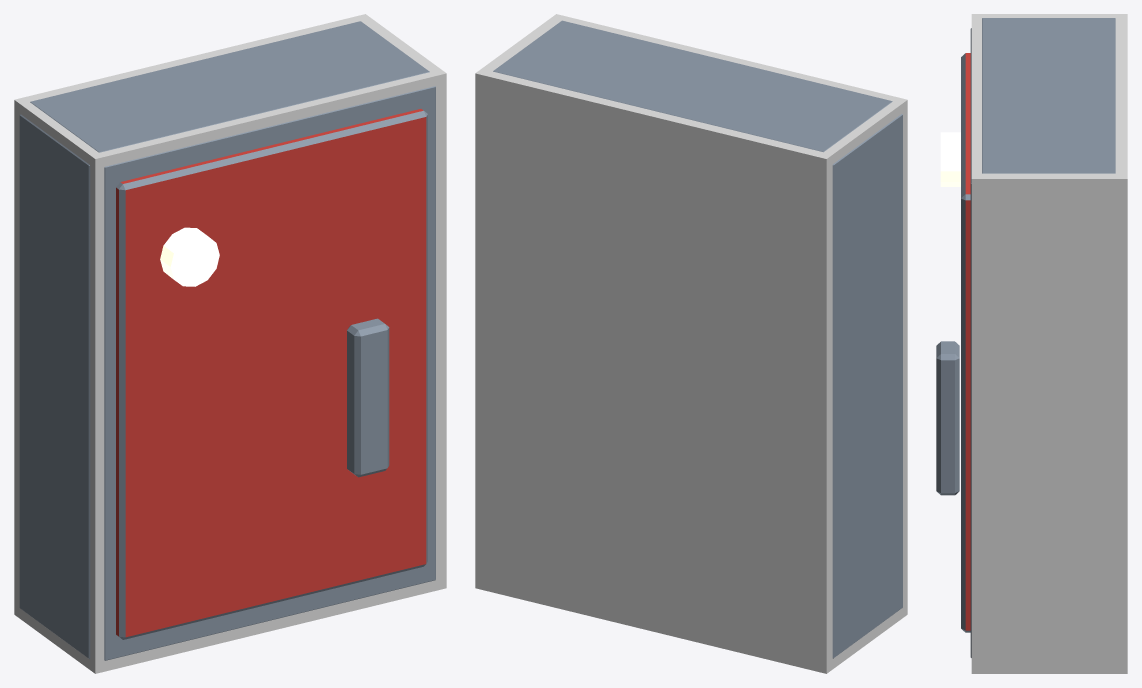
File: prop_fusebox_a.glb
3 views of the same model, side by side, from view 1: azimuth 30°, elevation 25°; view 2: azimuth 150°, elevation 25°; view 3: azimuth 270°, elevation 25° (orthographic). The views are drawn at different scales.
Visible parts, largest first — view 1: prop_fusebox_a, COL_prop_fusebox_a_1; view 2: COL_prop_fusebox_a_1, prop_fusebox_a; view 3: COL_prop_fusebox_a_1, prop_fusebox_a.
Boxes of the visible parts, bbox=[...] form: prop_fusebox_a: bbox=[19, 21, 435, 660]; COL_prop_fusebox_a_1: bbox=[14, 14, 446, 673]; COL_prop_fusebox_a_1: bbox=[475, 14, 907, 673]; prop_fusebox_a: bbox=[493, 20, 902, 658]; COL_prop_fusebox_a_1: bbox=[971, 14, 1127, 673]; prop_fusebox_a: bbox=[936, 18, 1115, 657].
Bounding box in the file's own units: 0.5012 × 0.7006 × 0.2451.
